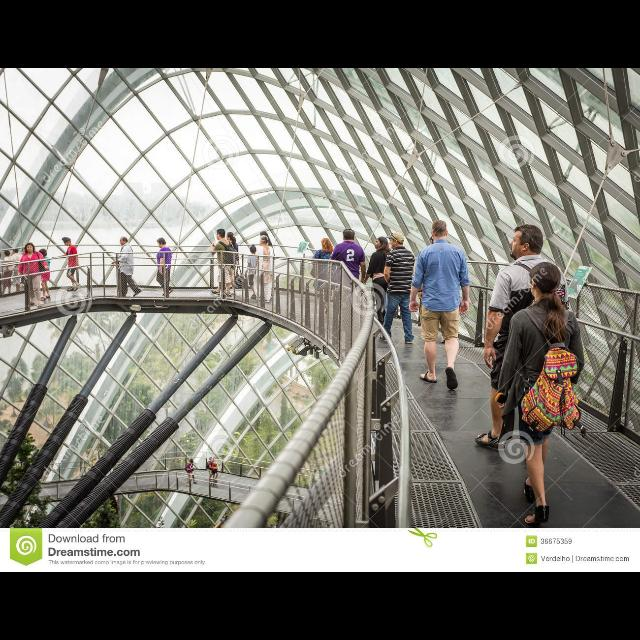head: (530, 262, 562, 298), (510, 225, 544, 258), (431, 220, 449, 240), (389, 232, 405, 250), (374, 237, 388, 250), (344, 228, 356, 242), (157, 238, 167, 250), (259, 236, 269, 246), (38, 248, 48, 258), (26, 242, 34, 254), (322, 238, 331, 248), (217, 230, 226, 240), (260, 231, 268, 239), (250, 246, 258, 254), (226, 233, 234, 241), (120, 238, 128, 246), (64, 239, 72, 247), (12, 249, 20, 255), (4, 250, 10, 258), (190, 460, 194, 466), (210, 458, 214, 462), (213, 459, 217, 463), (190, 460, 193, 464)
person: (493, 262, 589, 528), (472, 221, 570, 453), (406, 218, 472, 392), (374, 231, 418, 347), (327, 226, 369, 328), (362, 235, 396, 331), (308, 236, 338, 316), (17, 240, 51, 310), (208, 227, 240, 299), (111, 235, 143, 299), (252, 235, 274, 305), (218, 232, 242, 296), (256, 230, 278, 292), (60, 235, 82, 293), (154, 236, 174, 298), (33, 248, 53, 302), (246, 243, 260, 301), (8, 246, 24, 294), (2, 248, 16, 298), (206, 457, 218, 483), (185, 460, 195, 488), (188, 459, 198, 485), (212, 458, 220, 482)
